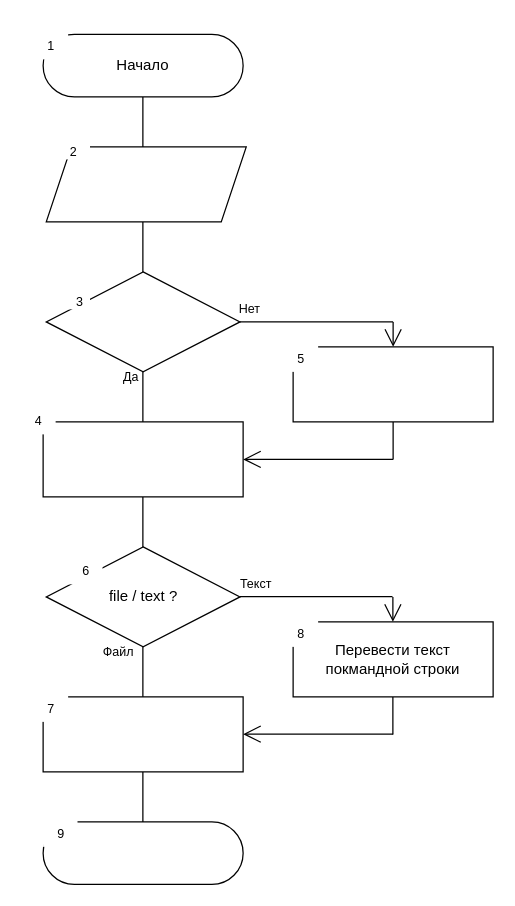
This 515x906 diagram has some shape labels left out. Each missing label, with the box of its shape:
--list-lang?: (45, 271, 240, 372)
Аргументы командной строки: (45, 146, 246, 222)
Конец: (42, 821, 243, 884)
Перевод из файла: (42, 696, 243, 772)
Показать историю переводов: (292, 346, 493, 422)
Показать поддерживаемые языки: (42, 421, 243, 497)
